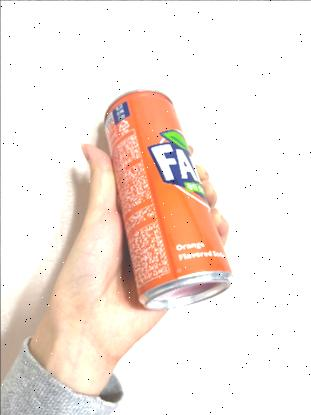Can: (101, 85, 239, 313)
